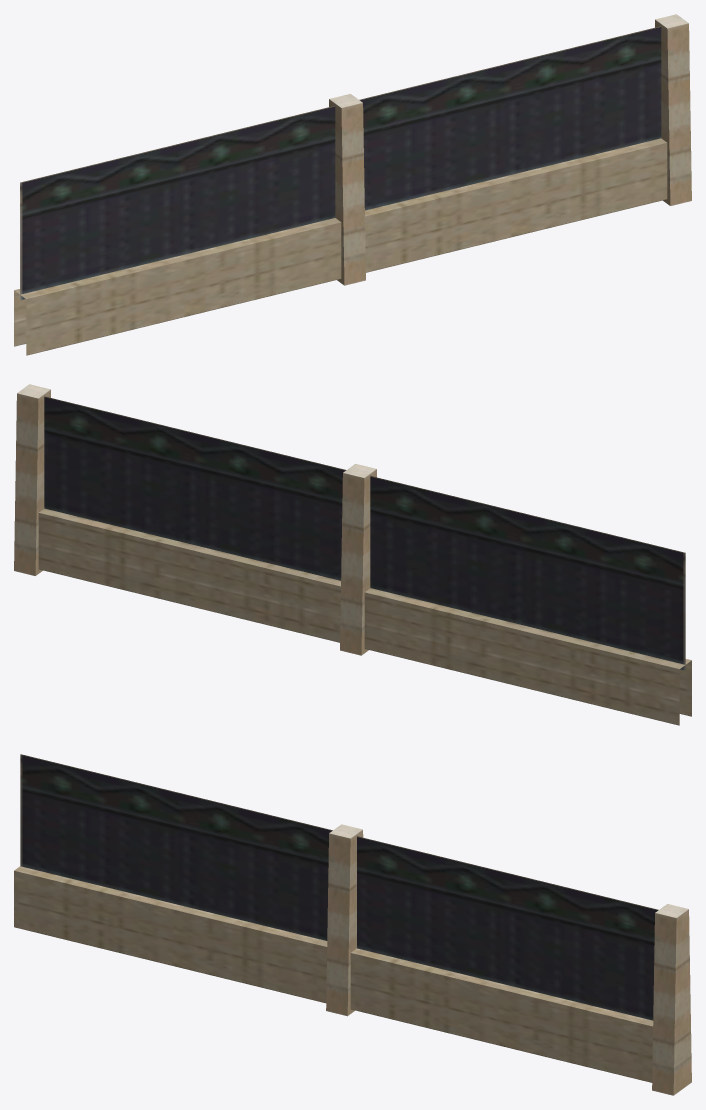
File: thm_nboo_imprv_metal_fence_wall_sml_s02_l2.fbx
3 renders of one model, top to bottom at view 1: azimuth 30°, elevation 25°; view 2: azimuth 150°, elevation 25°; view 3: azimuth 330°, elevation 25°, orthographic.
Parts seen in each view (by area): view 1: mesh_node; view 2: mesh_node; view 3: mesh_node.
Boxes of the visible parts, x1,y1,x2,y2 form: mesh_node: (14, 14, 691, 355); mesh_node: (14, 384, 691, 725); mesh_node: (14, 754, 691, 1095).
Bounding box in the file's own units: 6.25 × 1.58 × 0.3.
Materials: 2 (2 with a texture image).
